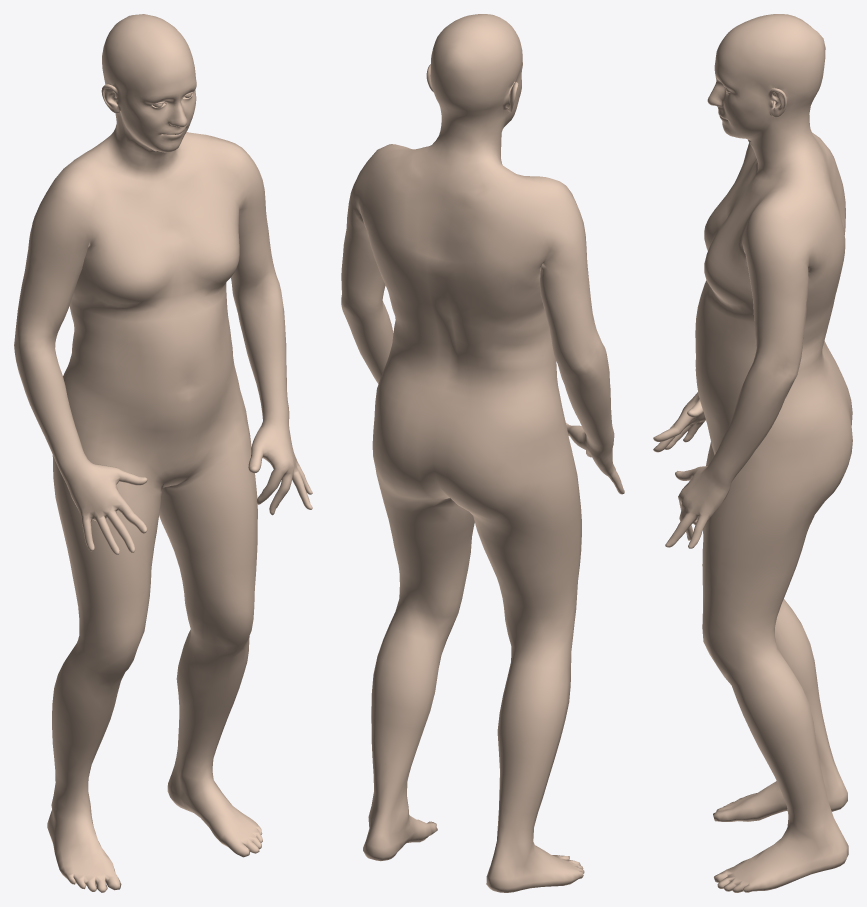
The model's file is WORD-01428.glb.
3 views of the same model, side by side, from view 1: azimuth 30°, elevation 25°; view 2: azimuth 150°, elevation 25°; view 3: azimuth 270°, elevation 25° (orthographic). The views are drawn at different scales.
Size of the model in its own units: 0.5476 by 1.71 by 0.3734.
